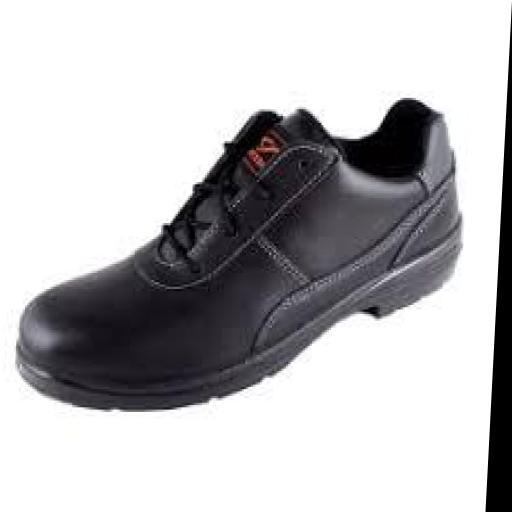safety_boots: (4, 103, 454, 419)
